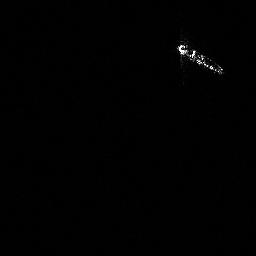ship: (176, 40, 225, 76)
